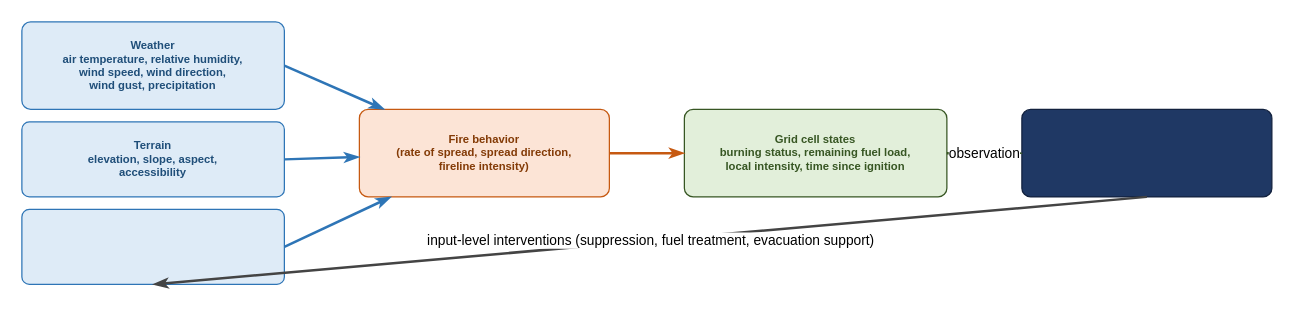
Image size: 1294x310. Some labels were removed from this diagram. The centre of each missing label's shape, as x and y in pixels:
"DSS Observation → Reasoning → Decision" belongs at pixel 1146 152.
"Fuel vegetation type, fuel load, fuel moisture" belongs at pixel 152 246.
